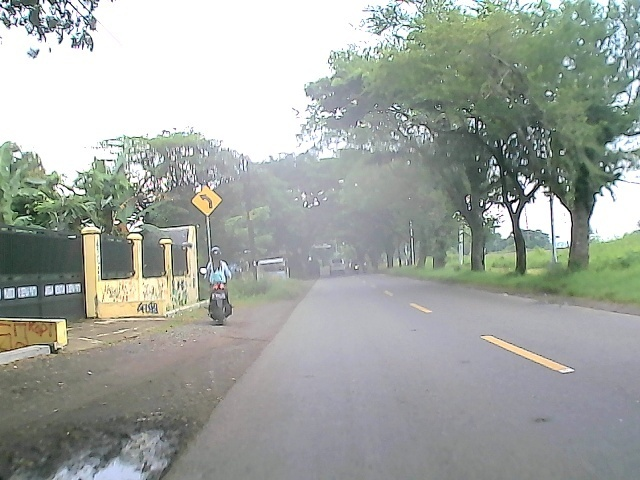Tikungan ke kiri: (189, 184, 226, 219)
